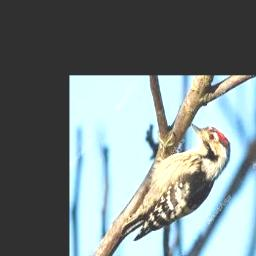Woodpecker: (121, 123, 230, 241)
